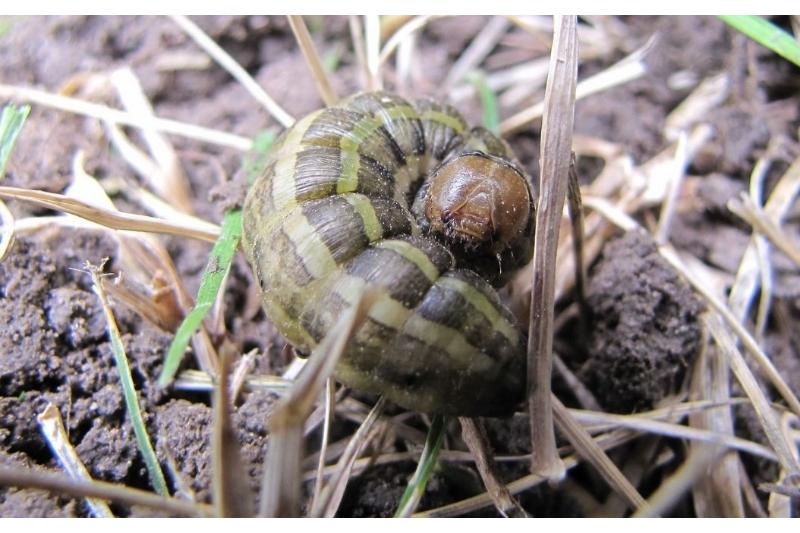fall-armyworm: (242, 93, 537, 420)
